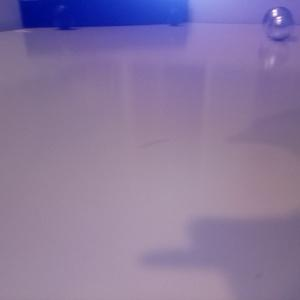alive_ball: (262, 6, 294, 40), (268, 16, 291, 40)
dead_ball: (53, 5, 74, 29), (166, 8, 181, 25)
